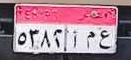2: (53, 28, 63, 50)
3: (29, 27, 39, 50)
5: (17, 31, 28, 46)
8: (40, 28, 52, 51)
ain: (98, 28, 112, 51)
alif: (71, 28, 80, 50)
meem: (85, 31, 95, 51)
